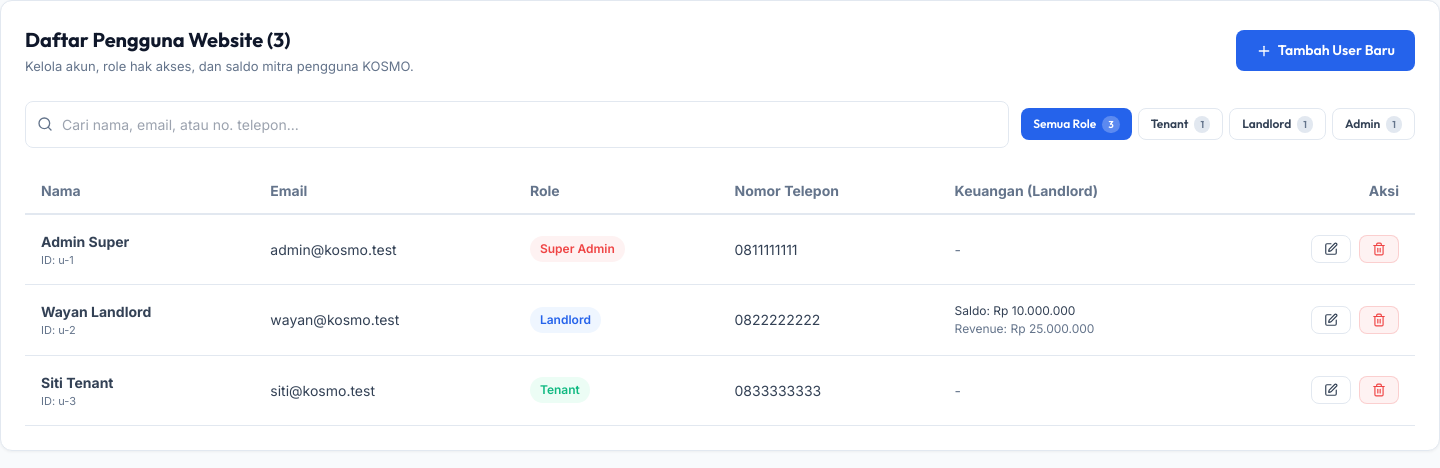
Admin UsersTab Component Suite › filters users by role filter buttons
This screenshot has width=1440, height=468.
Click the button with test id "filter-role-landlord".
click(1277, 124)  # box [1229,108,1326,140]
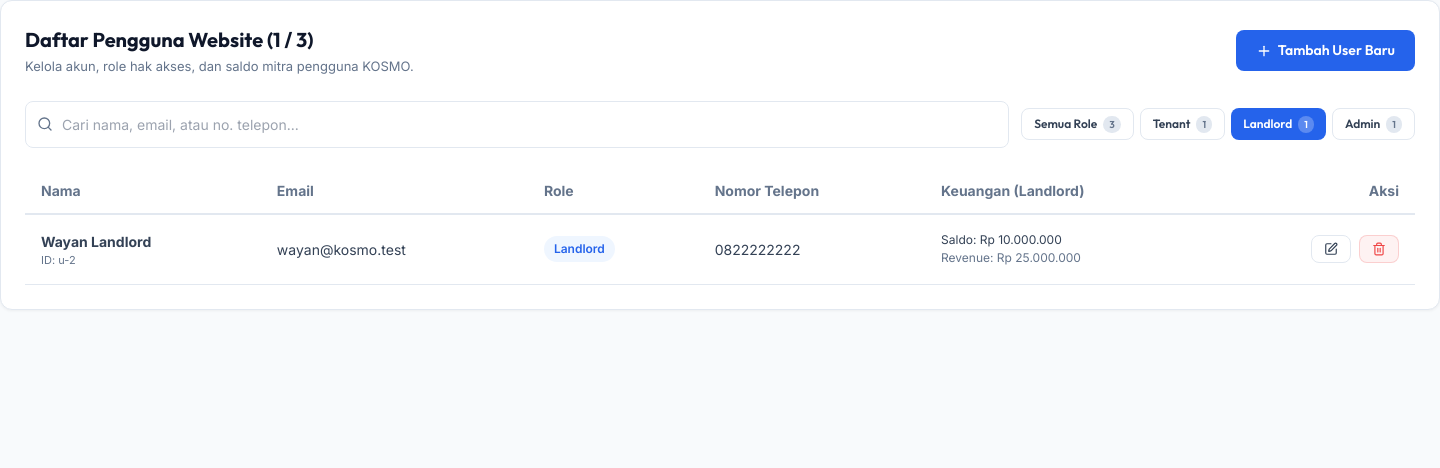
Expected: the text "Wayan Landlord" is shown, [41,232,151,250]
Result: the text "Siti Tenant" is gone
Result: the text "Admin Super" is gone
Click the button with test id "filter-role-tenant".
click(1182, 124)  # box [1140,108,1225,140]
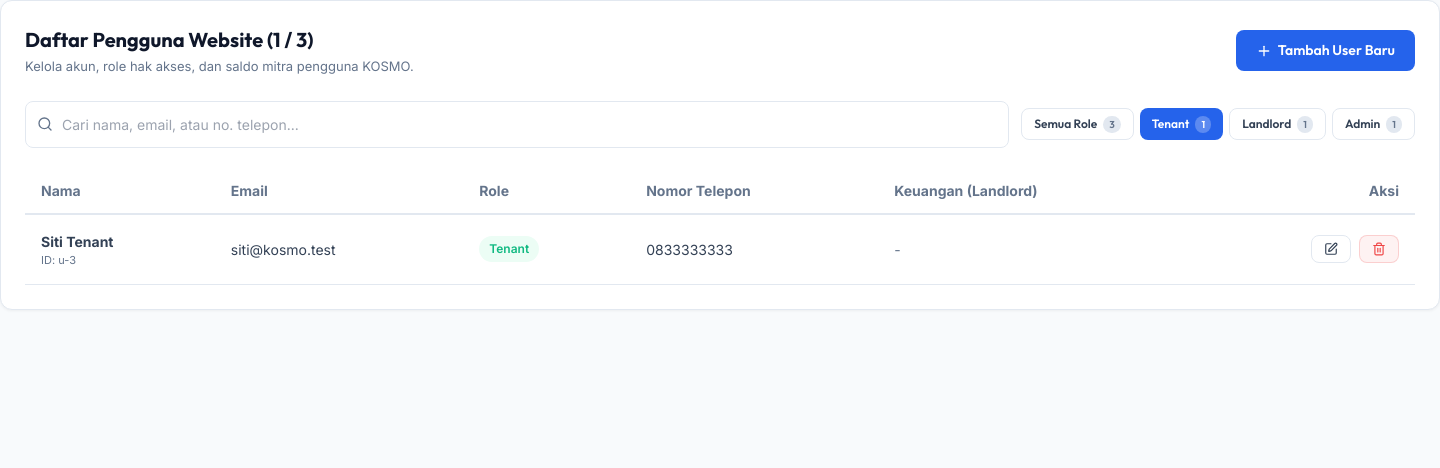
Result: the text "Siti Tenant" is shown at [41,232,114,250]
Result: the text "Wayan Landlord" is gone
